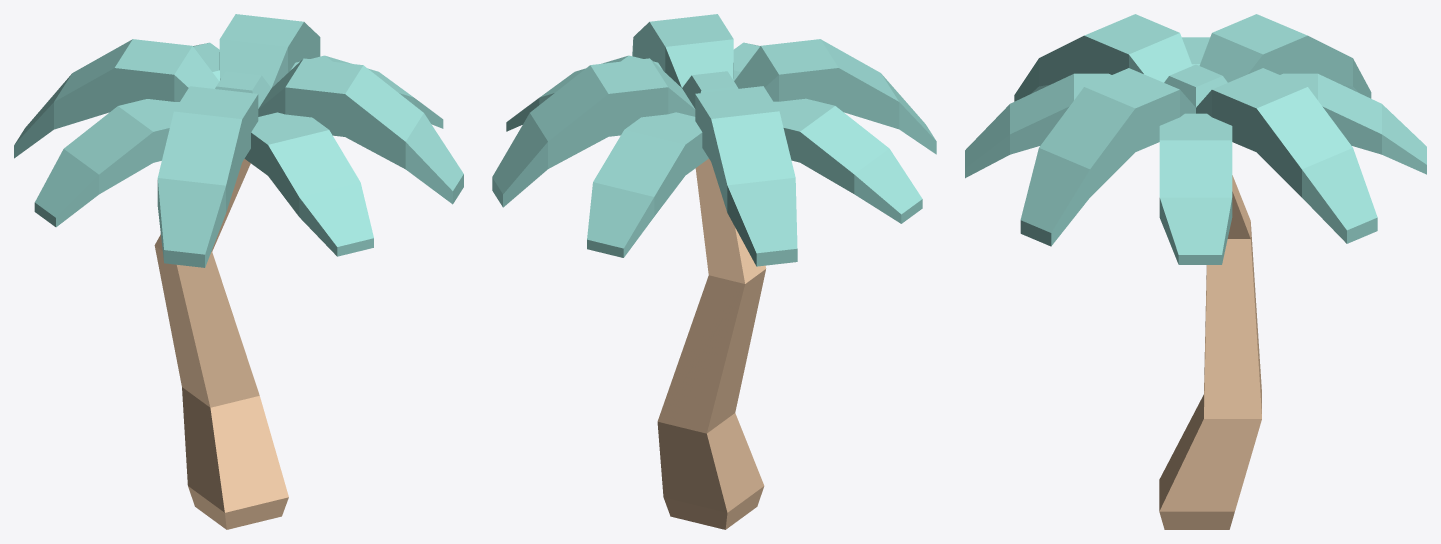
Rendered from palmDetailed_small.glb.
The picture shows the model from 3 angles, left to right: view 1: azimuth 30°, elevation 25°; view 2: azimuth 150°, elevation 25°; view 3: azimuth 270°, elevation 25°; orthographic projection. The views are drawn at different scales.
Parts seen in each view (by area): view 1: Group 147, Group 145; view 2: Group 147, Group 145; view 3: Group 147, Group 145.
Boxes of the visible parts, bbox=[...] form: Group 147: bbox=[14, 14, 463, 267]; Group 145: bbox=[154, 159, 288, 529]; Group 147: bbox=[492, 14, 936, 266]; Group 145: bbox=[657, 158, 766, 529]; Group 147: bbox=[965, 14, 1426, 264]; Group 145: bbox=[1159, 175, 1261, 529].
Bounding box in the file's own units: 0.7719 × 0.8394 × 0.7719.
